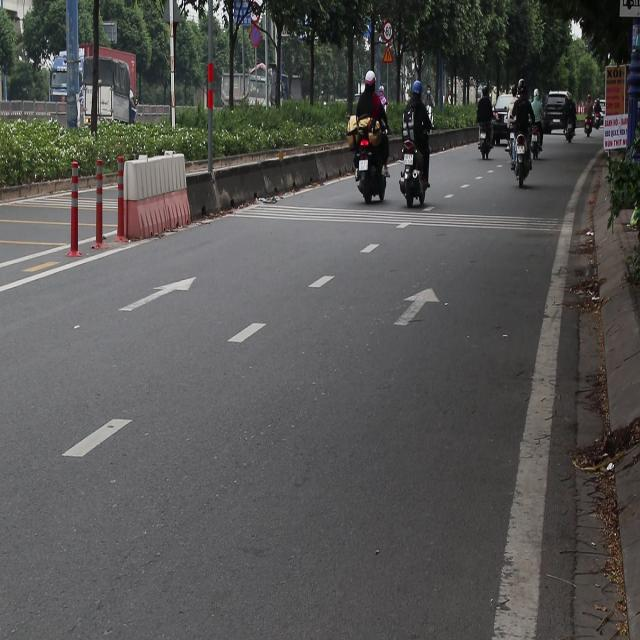car: (542, 93, 574, 137), (493, 96, 515, 122)
motorbike: (350, 118, 390, 202), (398, 149, 426, 209), (474, 119, 493, 173), (510, 131, 525, 181), (560, 106, 576, 142), (531, 118, 541, 156), (584, 113, 594, 135)
truck: (52, 47, 138, 132), (215, 56, 282, 130)
